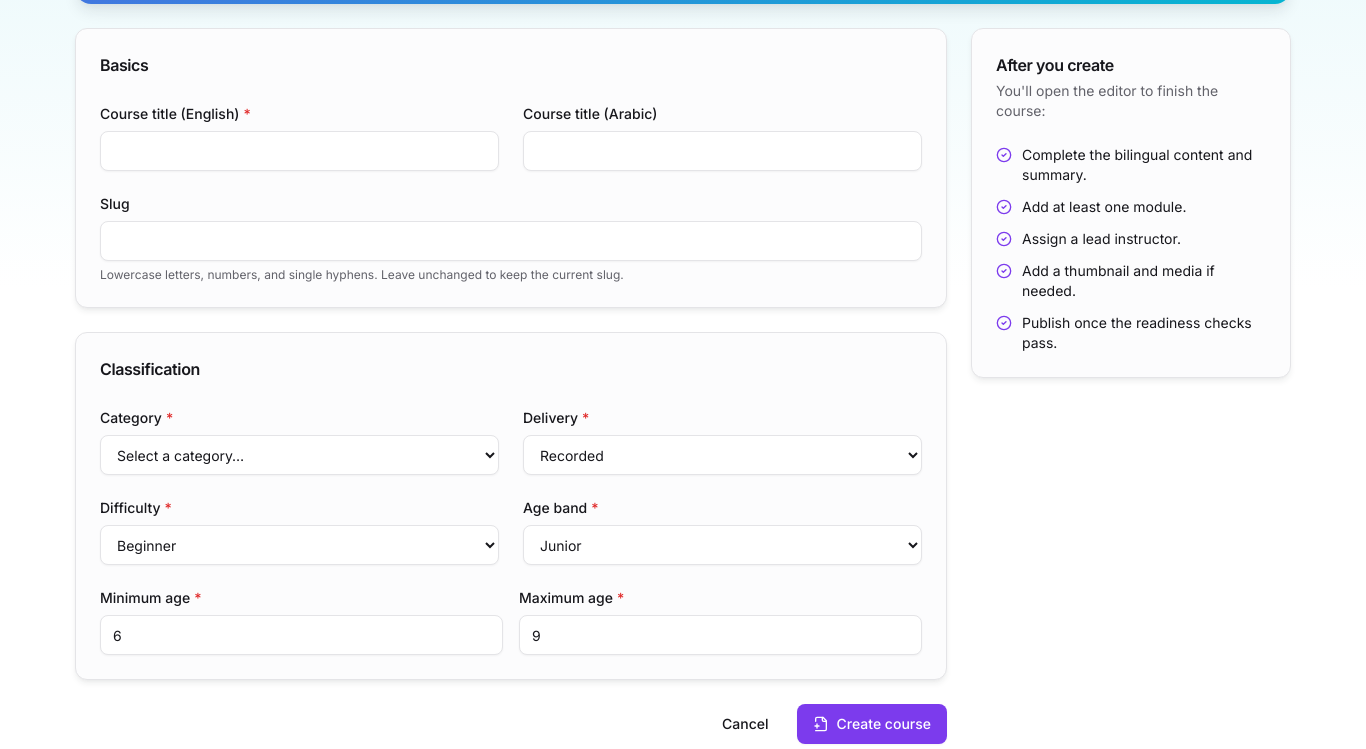
Test case: CourseCreatePage › shows required validation errors and does not submit
(page scrolled)
Click the button "Create course" at (872, 724), box [796, 704, 947, 744]
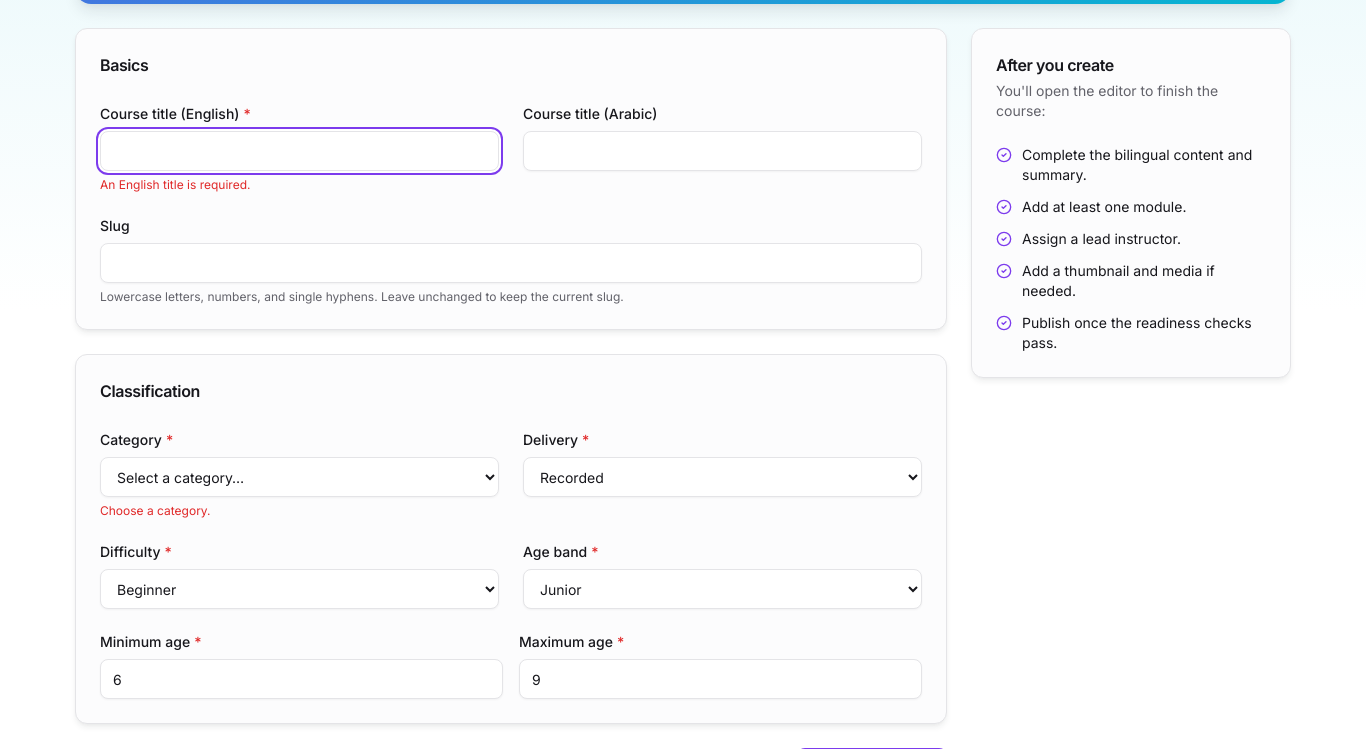
Result: the text "An English title is required." is shown at [100, 177, 250, 192]
Result: the text "Choose a category." is shown at [100, 503, 210, 518]
